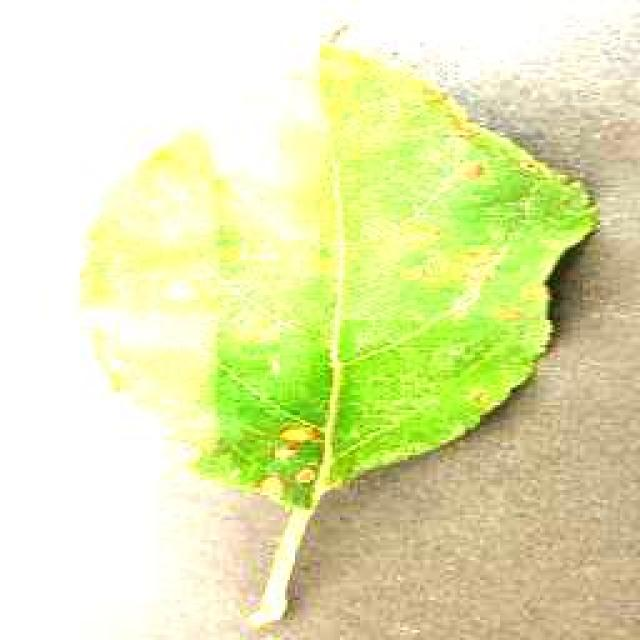Apple___Cedar_apple_rust: (76, 17, 602, 518)
